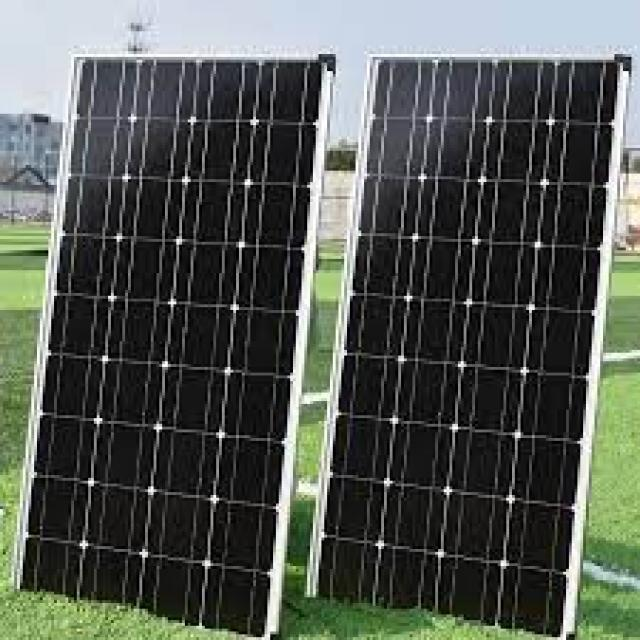Normal Solar Panel: (19, 55, 338, 635), (315, 57, 631, 631)
